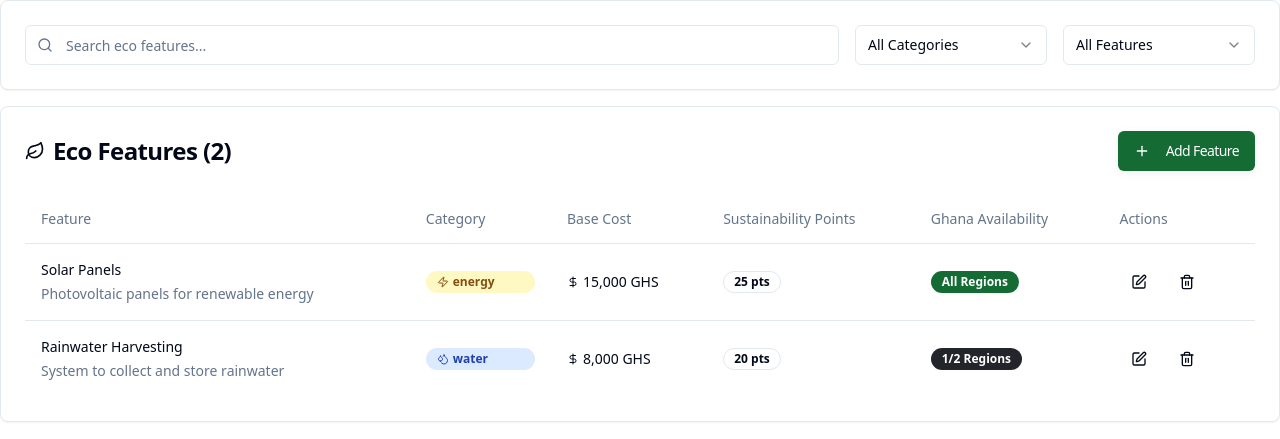
it: EcoFeatureManagement › should show empty state when no features match filters
Type "nonexistent" into the field with placeholder "Search eco features..." at {"x": 432, "y": 45}, box [25,25,839,65]
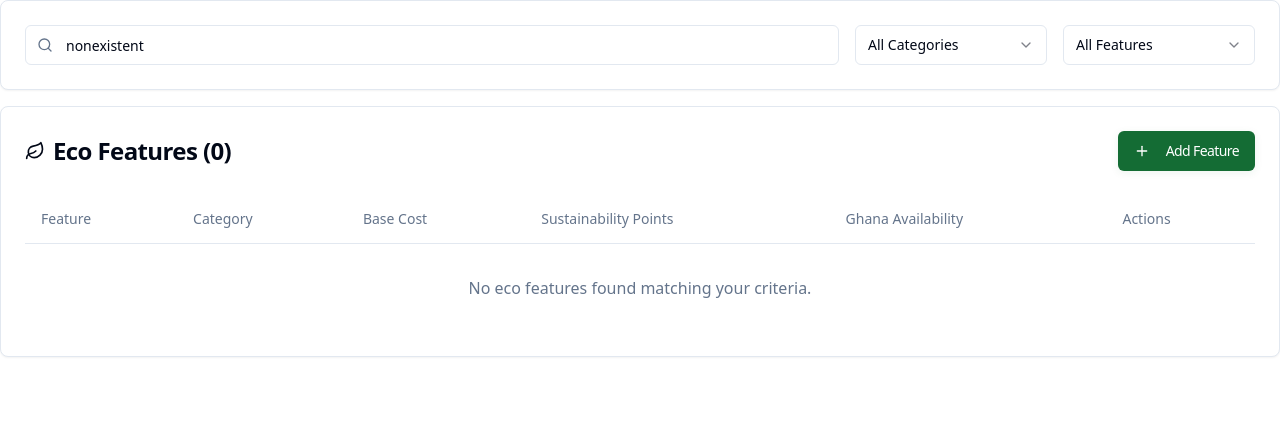
Check: the text "No eco features found matching your criteria." is shown, box [469,276,811,298]
